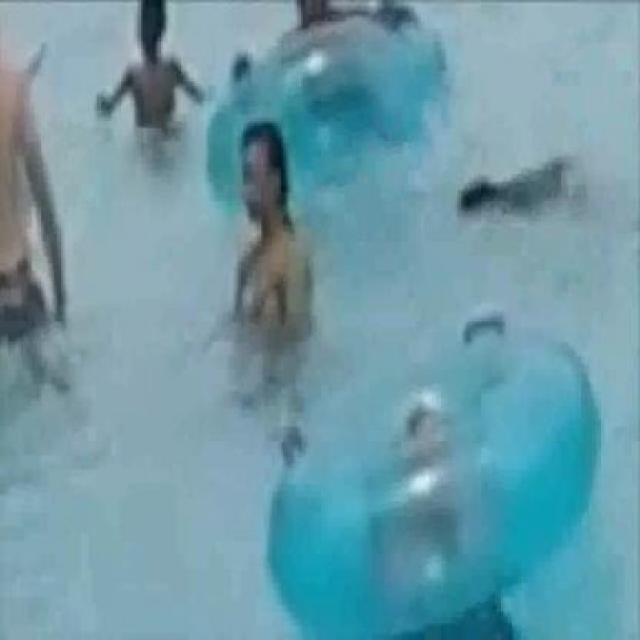drowning: (222, 126, 316, 351), (98, 0, 204, 132), (453, 151, 593, 240)
